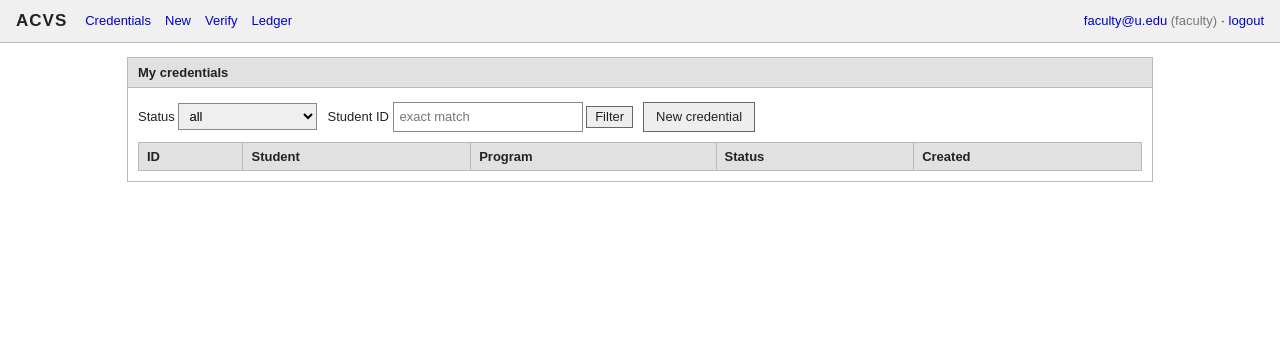
navigation › signs out from the header
Click the link "logout".
click(1246, 20)  # box [1229,13,1264,28]
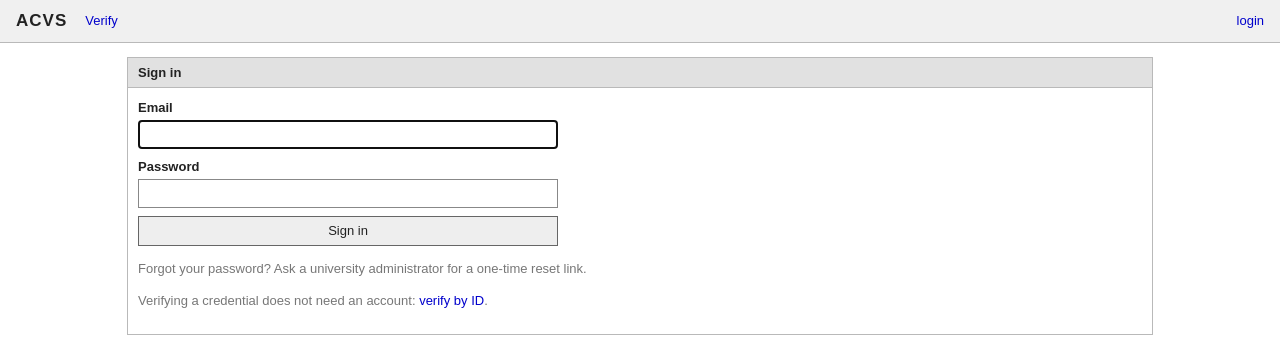
Check: the button "Sign in" is shown, box [138,216,558,246]
